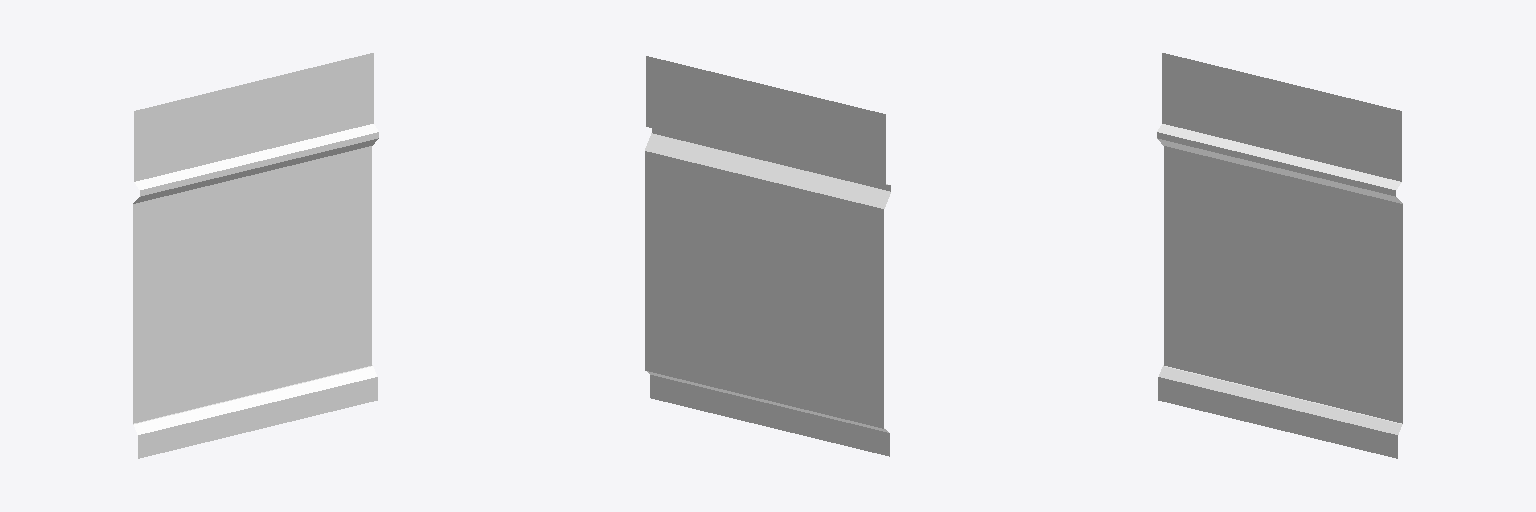
The model's file is Wall.obj.
3 renders of one model, left to right at view 1: azimuth 30°, elevation 25°; view 2: azimuth 150°, elevation 25°; view 3: azimuth 330°, elevation 25°, orthographic.
Visible parts, largest first — view 1: Wall_TexturesCom_Pavement_CobblestoneOld_1K_albedo.020; view 2: Wall_TexturesCom_Pavement_CobblestoneOld_1K_albedo.020; view 3: Wall_TexturesCom_Pavement_CobblestoneOld_1K_albedo.020.
Part boxes in pixels (left/top/right/bottom): Wall_TexturesCom_Pavement_CobblestoneOld_1K_albedo.020: left=133, top=53, right=378, bottom=458; Wall_TexturesCom_Pavement_CobblestoneOld_1K_albedo.020: left=645, top=56, right=890, bottom=456; Wall_TexturesCom_Pavement_CobblestoneOld_1K_albedo.020: left=1157, top=53, right=1402, bottom=458.
Size of the model in its own units: 4 by 5.5 by 0.2.